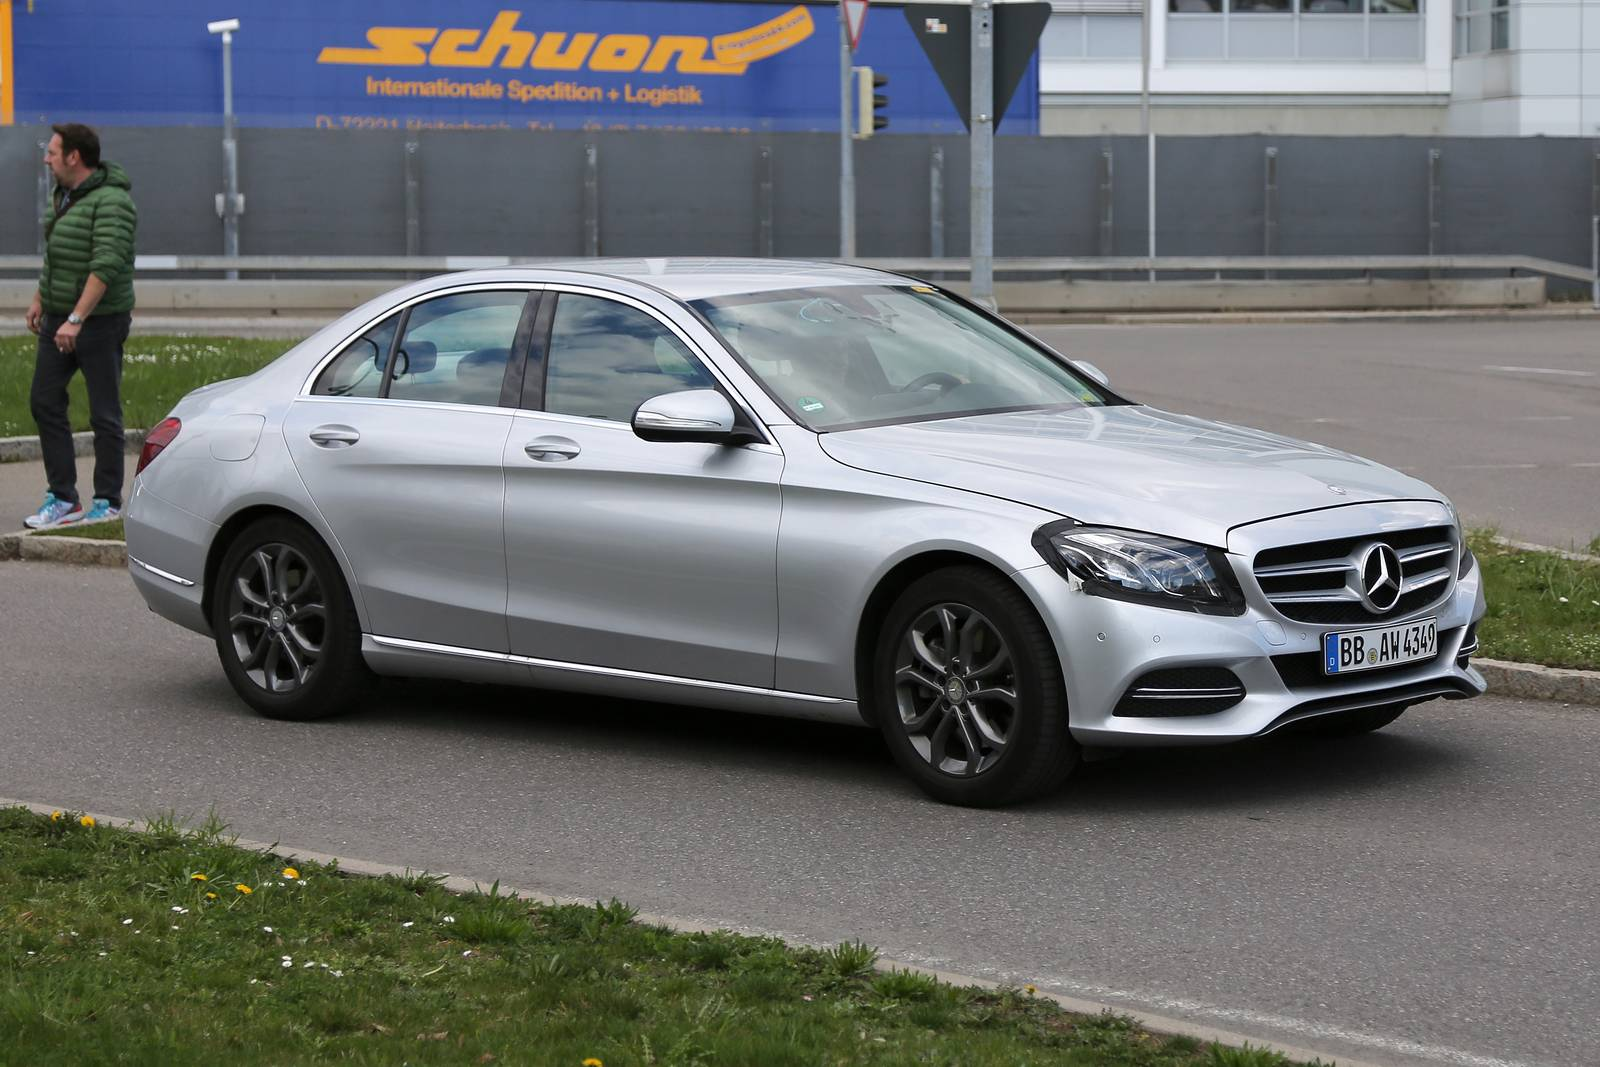cclass: (113, 243, 1505, 830)
